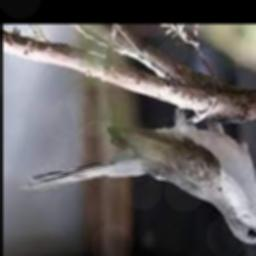Cuckoo: (19, 97, 256, 245)
